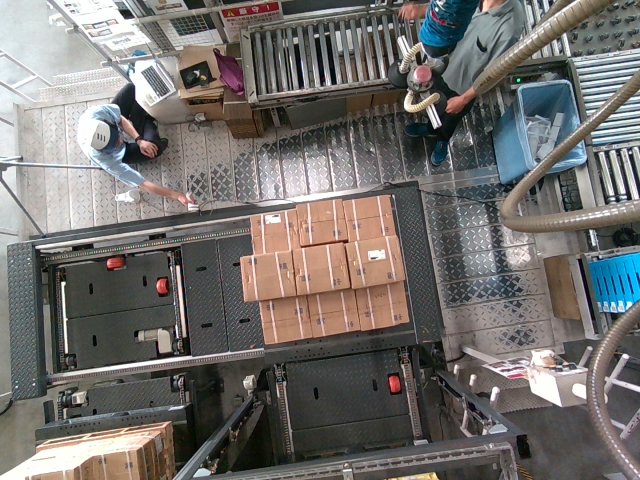box: (239, 253, 302, 299), (346, 240, 406, 286), (291, 245, 348, 292), (293, 202, 346, 245), (306, 293, 360, 334), (356, 287, 410, 328), (344, 196, 398, 237), (259, 300, 313, 341)
